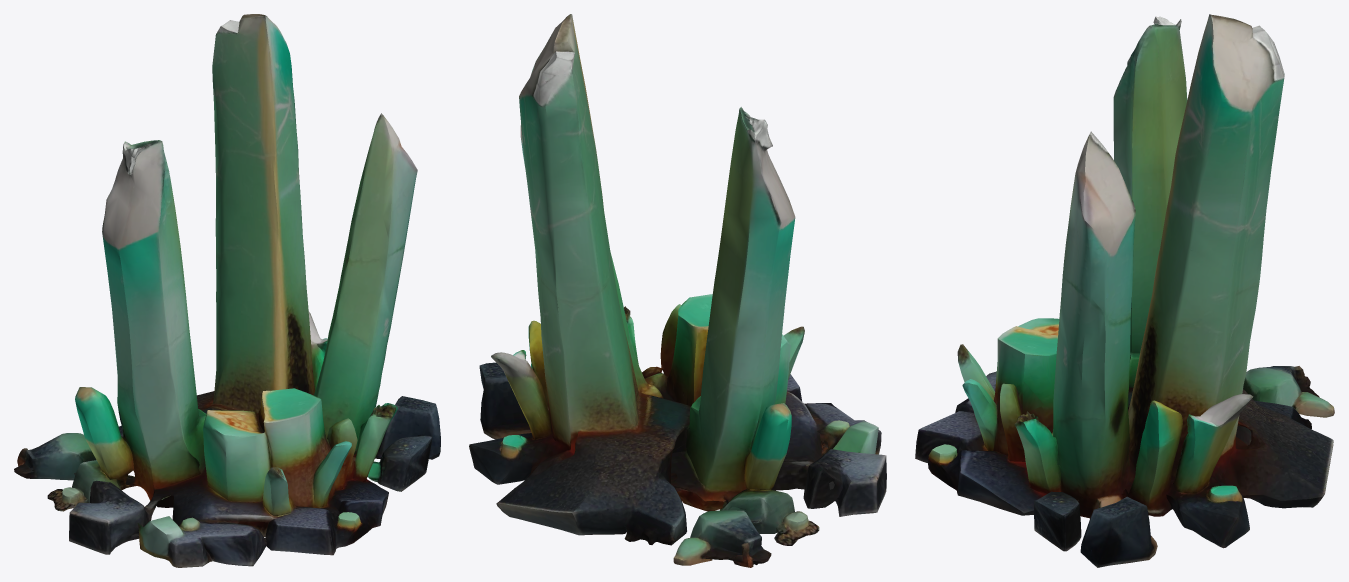
Rendered from prop-ward-glass.glb.
The picture shows the model from 3 angles, left to right: view 1: azimuth 30°, elevation 25°; view 2: azimuth 150°, elevation 25°; view 3: azimuth 270°, elevation 25°; orthographic projection. The views are drawn at different scales.
Visible parts, largest first — view 1: prop-ward-glass; view 2: prop-ward-glass; view 3: prop-ward-glass.
Part boxes in pixels (x1,y1,x2,y2): prop-ward-glass: (14,14,440,567); prop-ward-glass: (469,14,886,567); prop-ward-glass: (915,14,1334,567).
Size of the model in its own units: 5.04 by 5.74 by 4.44.
Materials: 1 (1 with a texture image).
